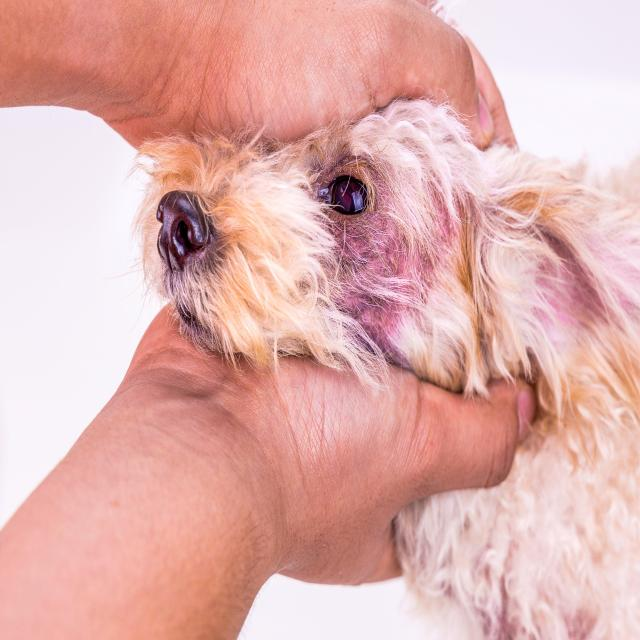fungal infection: (318, 154, 413, 336), (532, 215, 632, 325), (423, 184, 457, 267), (169, 255, 227, 298)
